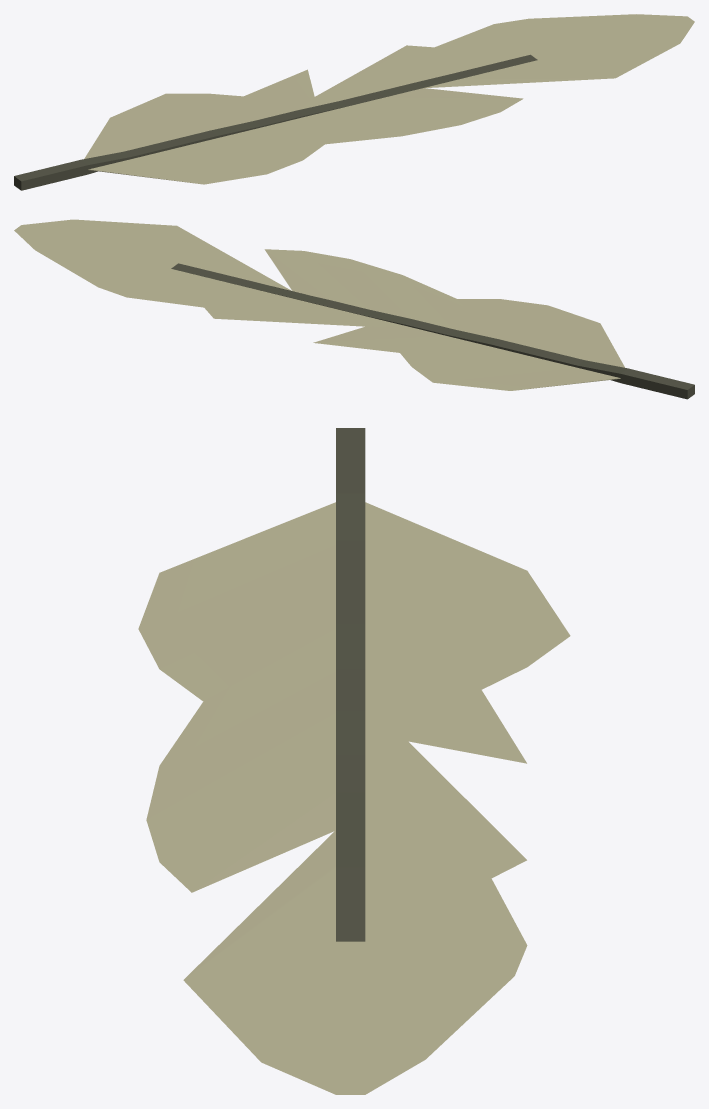
The model's file is Feather.glb.
The picture shows the model from 3 angles, top to bottom: view 1: azimuth 30°, elevation 25°; view 2: azimuth 150°, elevation 25°; view 3: azimuth 270°, elevation 25°; orthographic projection. The views are drawn at different scales.
Parts seen in each view (by area): view 1: Cube; view 2: Cube; view 3: Cube.
Boxes of the visible parts, x1,y1,x2,y2 form: Cube: (14,14,694,190); Cube: (14,219,694,399); Cube: (138,428,570,1094).
Size of the model in its own units: 0.5182 by 0.00689 by 0.144.
